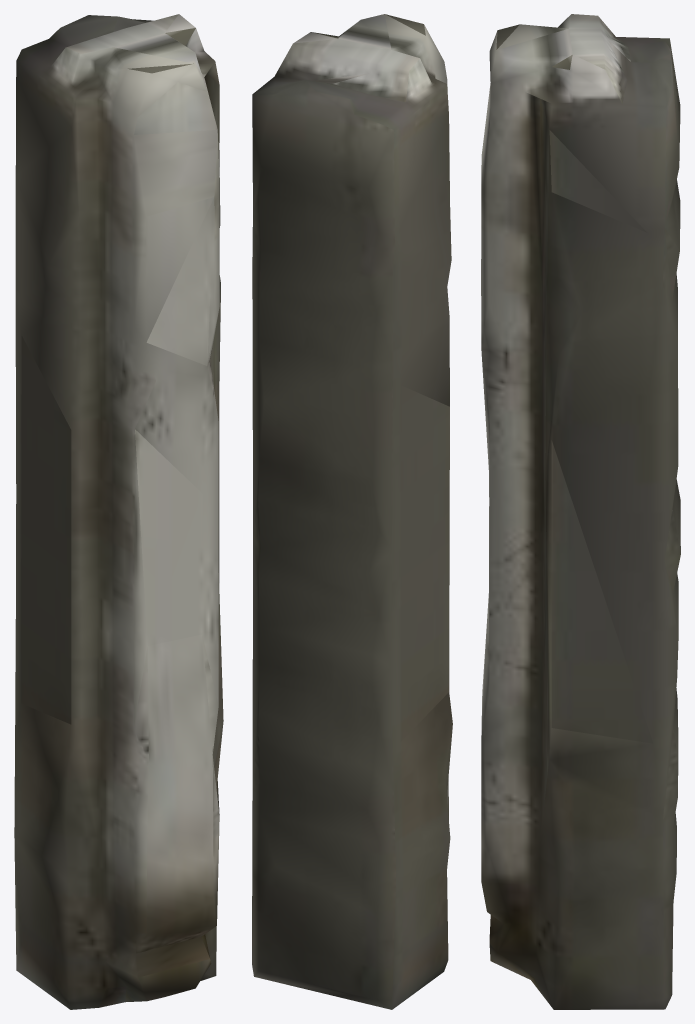
The model's file is prop_road_stripe.glb.
3 renders of one model, left to right at view 1: azimuth 30°, elevation 25°; view 2: azimuth 150°, elevation 25°; view 3: azimuth 270°, elevation 25°, orthographic. The views are drawn at different scales.
Visible parts, largest first — view 1: Mesh_0; view 2: Mesh_0; view 3: Mesh_0.
Part boxes in pixels (box(x1,y1,x2,y2)): Mesh_0: box(14, 14, 223, 1009); Mesh_0: box(252, 14, 452, 1009); Mesh_0: box(481, 14, 680, 1009).
Bounding box in the file's own units: 0.3824 × 2 × 0.3869.
Materials: 1 (1 with a texture image).
